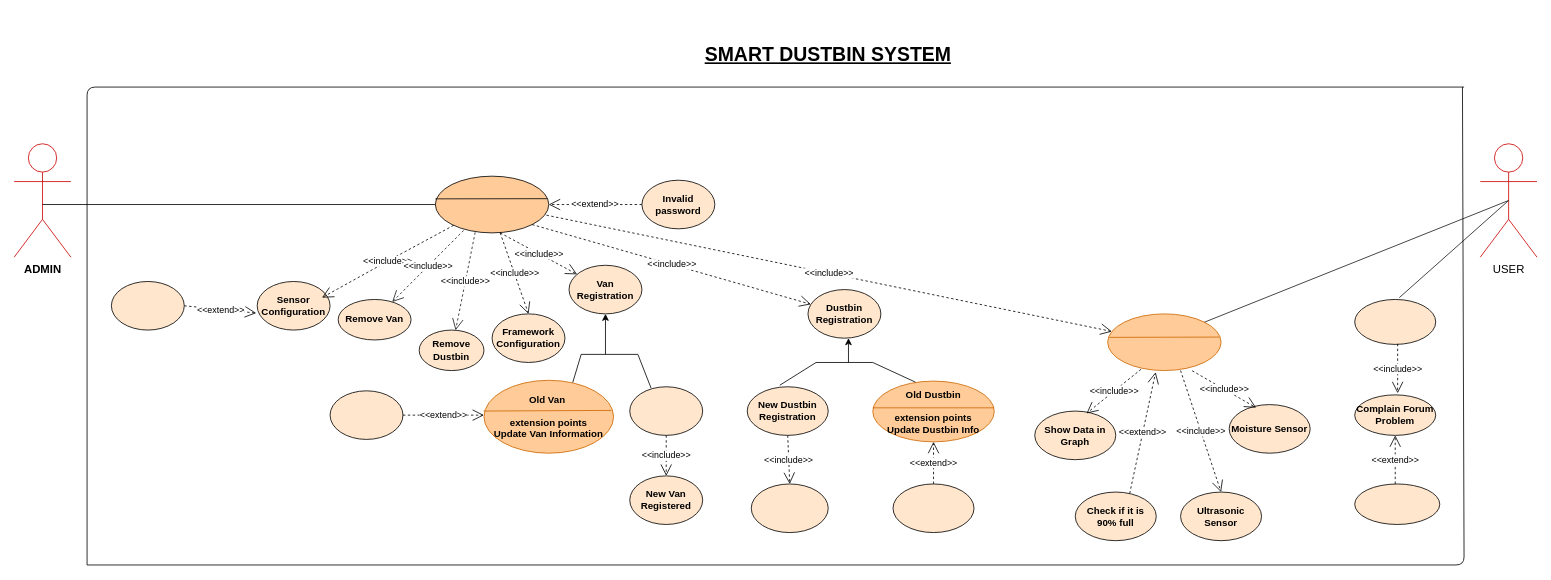
Some shapes in this 1551 by 580 pixel diagram are drawn without their labels. Here are the shapes that lost their labels. From the top down, the box of each, then its label:
(435, 175, 549, 233): Login Account extension points Invalid Password
(111, 281, 184, 330): Request data from sensors
(1354, 299, 1436, 344): Complain
(1107, 313, 1221, 371): Start Modelling extension point Show Data
(329, 390, 403, 439): Update Van information
(629, 386, 703, 435): New Van Registration
(750, 483, 828, 533): New Dustbin Registered
(892, 483, 974, 533): Update Dustbin Information
(1354, 483, 1440, 524): Mail Sent to Authority
